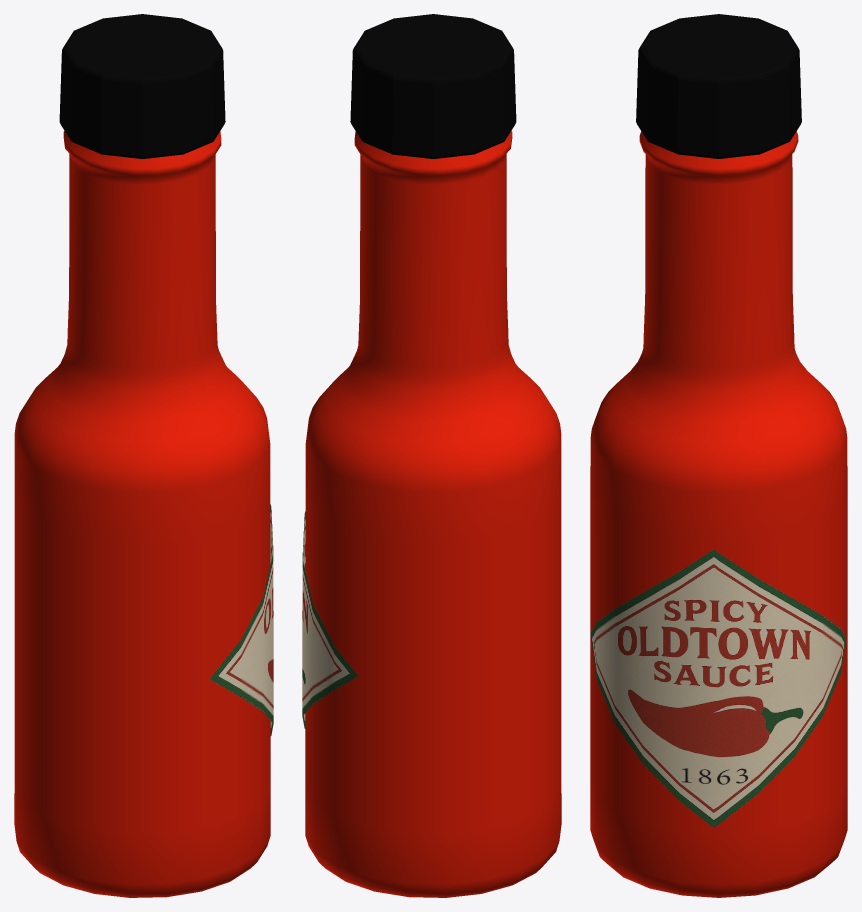
The model's file is SpicyOldTownSauce.fbx.
3 renders of one model, left to right at view 1: azimuth 30°, elevation 25°; view 2: azimuth 150°, elevation 25°; view 3: azimuth 270°, elevation 25°, orthographic.
Parts seen in each view (by area): view 1: res bottle sauce, Nut, Cube.002; view 2: res bottle sauce, Nut, Cube.002; view 3: res bottle sauce, Cube.002, Nut.
Part boxes in pixels (x1=…): res bottle sauce: x1=14, y1=131, x2=270, y2=897; Nut: x1=59, y1=14, x2=225, y2=158; Cube.002: x1=210, y1=504, x2=273, y2=735; res bottle sauce: x1=305, y1=131, x2=561, y2=897; Nut: x1=350, y1=14, x2=516, y2=158; Cube.002: x1=302, y1=511, x2=358, y2=728; res bottle sauce: x1=590, y1=131, x2=847, y2=897; Cube.002: x1=590, y1=549, x2=845, y2=827; Nut: x1=636, y1=14, x2=801, y2=158.
Bounding box in the file's own units: 93.42 × 321 × 92.22.
